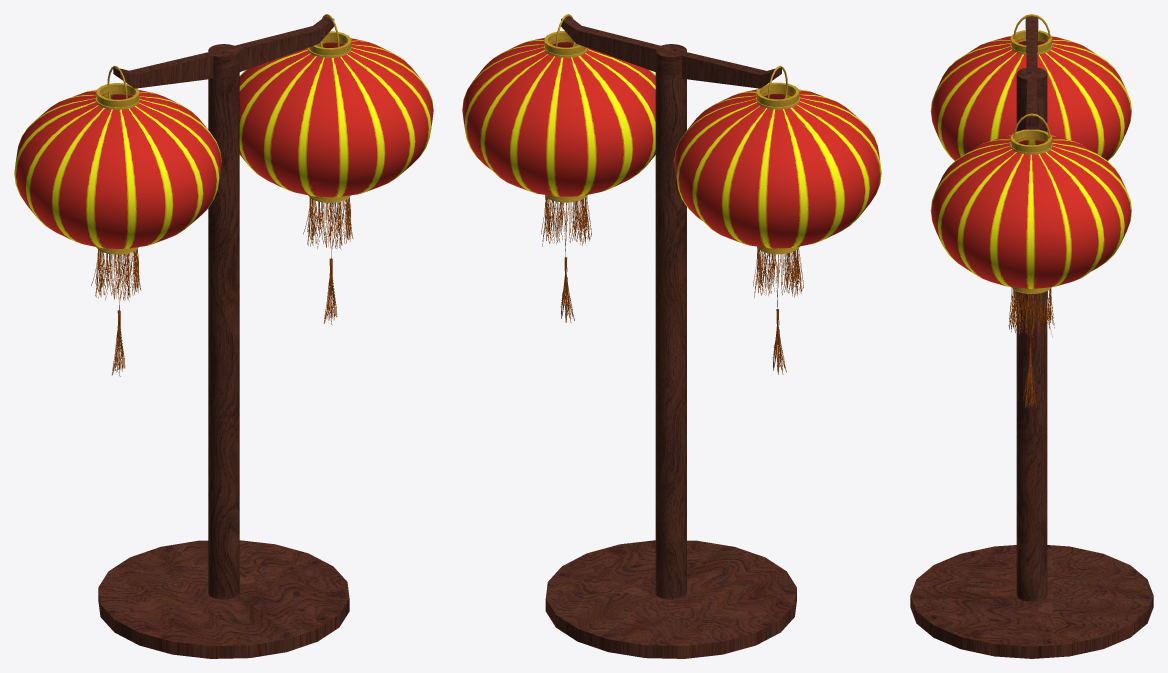
Rendered from denglong.fbx.
The picture shows the model from 3 angles, left to right: view 1: azimuth 30°, elevation 25°; view 2: azimuth 150°, elevation 25°; view 3: azimuth 270°, elevation 25°; orthographic projection. The views are drawn at different scales.
Visible parts, largest first — view 1: pCylinder1, pTorus3, pTorus2; view 2: pCylinder1, pTorus3, pTorus2; view 3: pCylinder1, pTorus2, pTorus3.
Boxes of the visible parts, left/top/right/bottom form: pCylinder1: left=98, top=16, right=349, bottom=658; pTorus3: left=14, top=65, right=221, bottom=376; pTorus2: left=239, top=14, right=433, bottom=324; pCylinder1: left=545, top=16, right=796, bottom=658; pTorus3: left=674, top=65, right=881, bottom=374; pTorus2: left=462, top=14, right=655, bottom=322; pCylinder1: left=910, top=16, right=1153, bottom=658; pTorus2: left=930, top=113, right=1131, bottom=408; pTorus3: left=930, top=14, right=1131, bottom=160.
Size of the model in its own units: 24.47 by 33.61 by 13.62.
6 materials, 3 textured.
